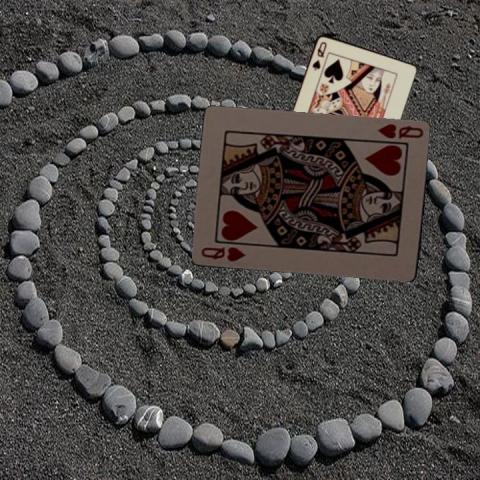Qh: (374, 120, 424, 140), (199, 243, 247, 263)
Qs: (309, 39, 328, 71)
